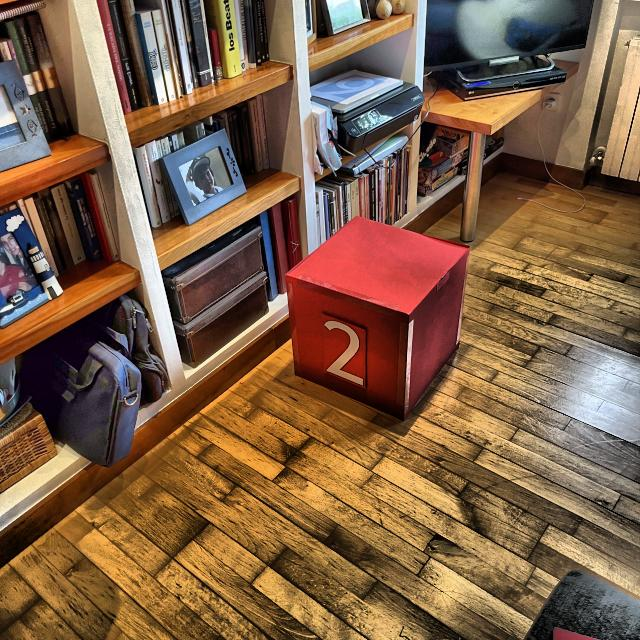red box: (287, 215, 471, 422)
two: (324, 319, 364, 386)
